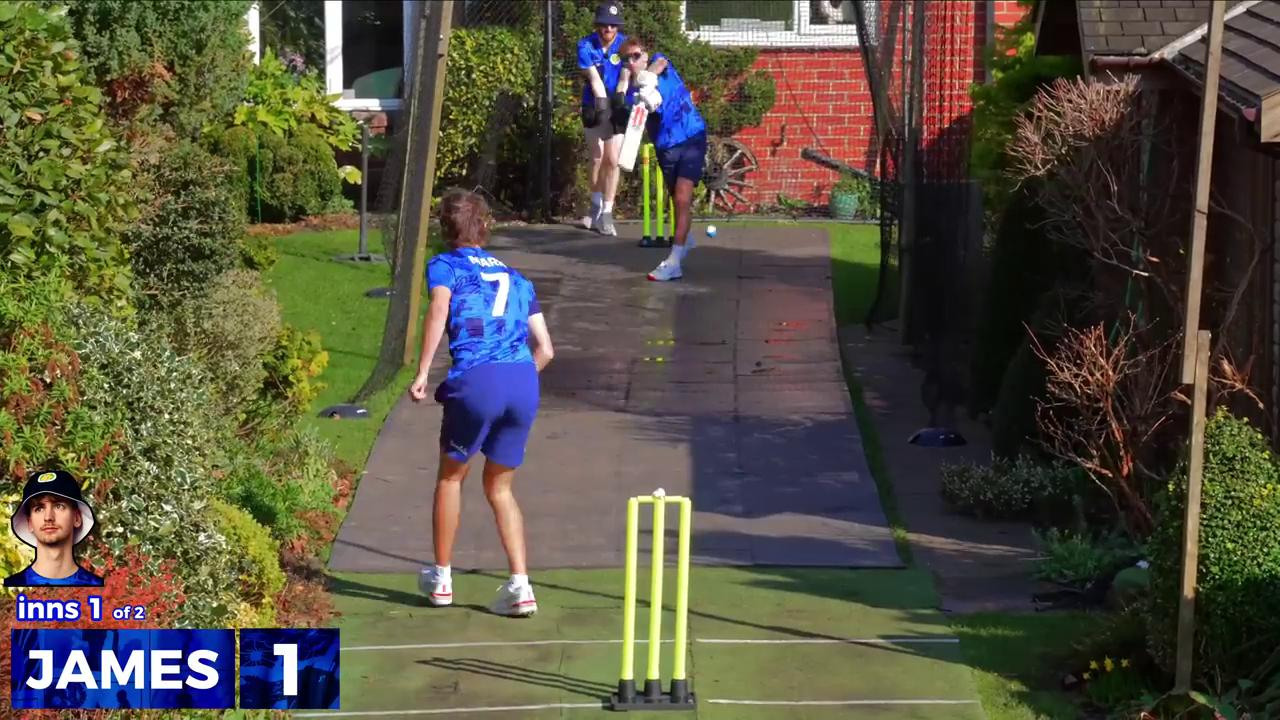ball: (702, 220, 720, 239)
